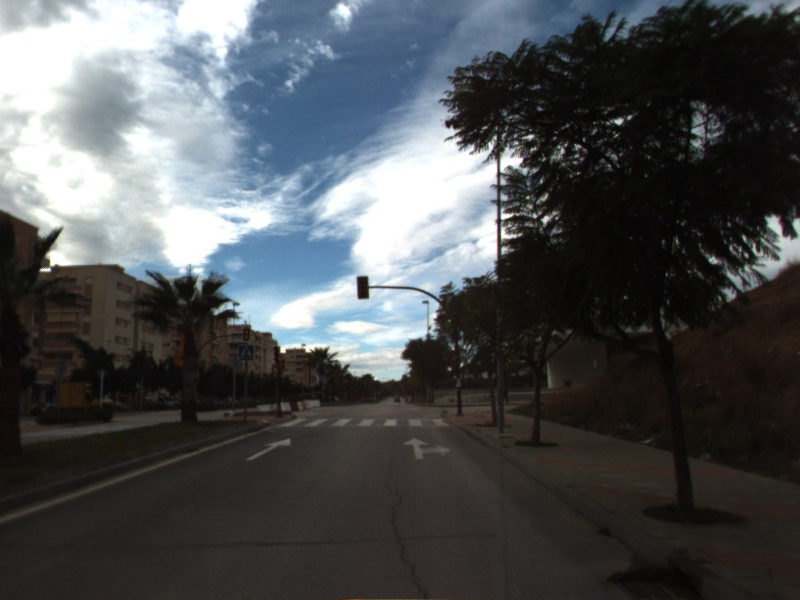STRAIGHT: (244, 436, 293, 462)
STRAIGHT_RIGHT: (401, 435, 453, 461)
